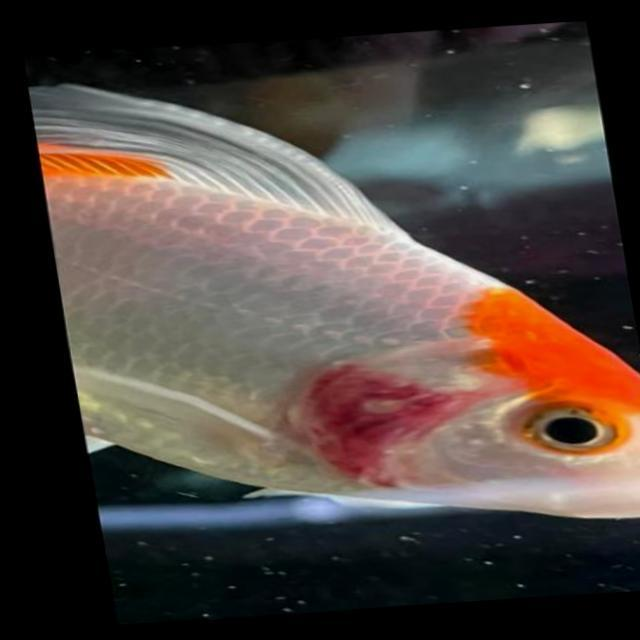Gill Disease: (274, 234, 636, 562)
